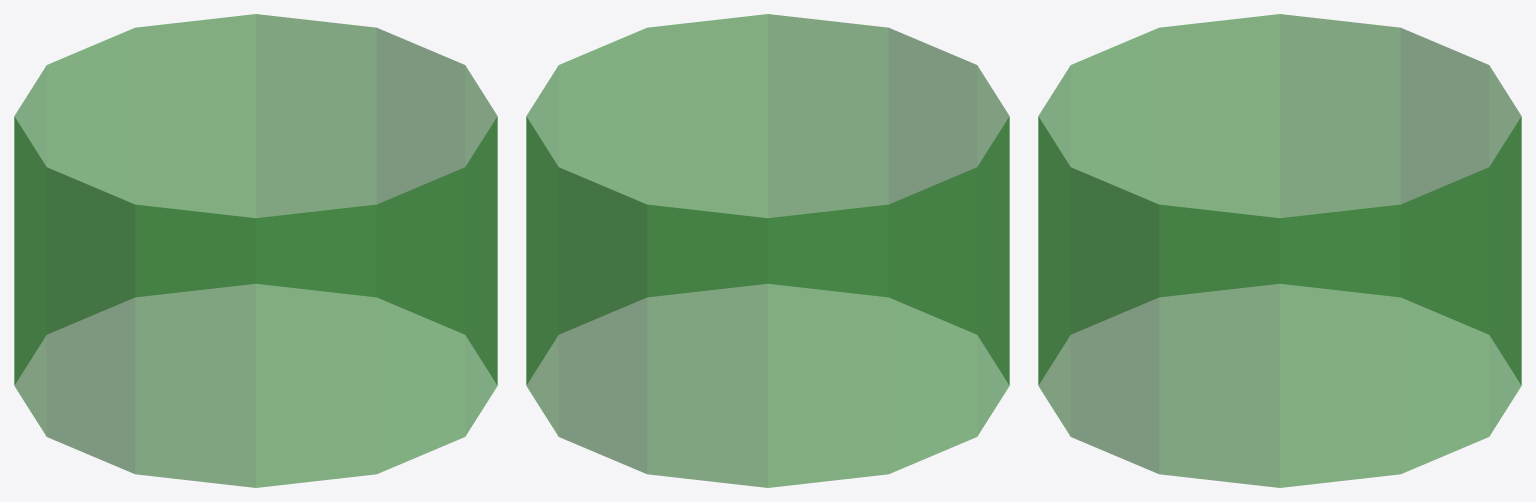
File: air_wall2.obj
3 renders of one model, left to right at view 1: azimuth 30°, elevation 25°; view 2: azimuth 150°, elevation 25°; view 3: azimuth 270°, elevation 25°, orthographic.
Bounding box in the file's own units: 14.61 × 9 × 14.61.
